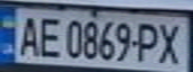0: (63, 16, 84, 60)
6: (97, 18, 118, 62)
8: (81, 17, 100, 61)
9: (112, 19, 136, 62)
A: (12, 12, 42, 57)
E: (33, 14, 63, 58)
P: (133, 19, 163, 64)
X: (154, 19, 190, 65)
